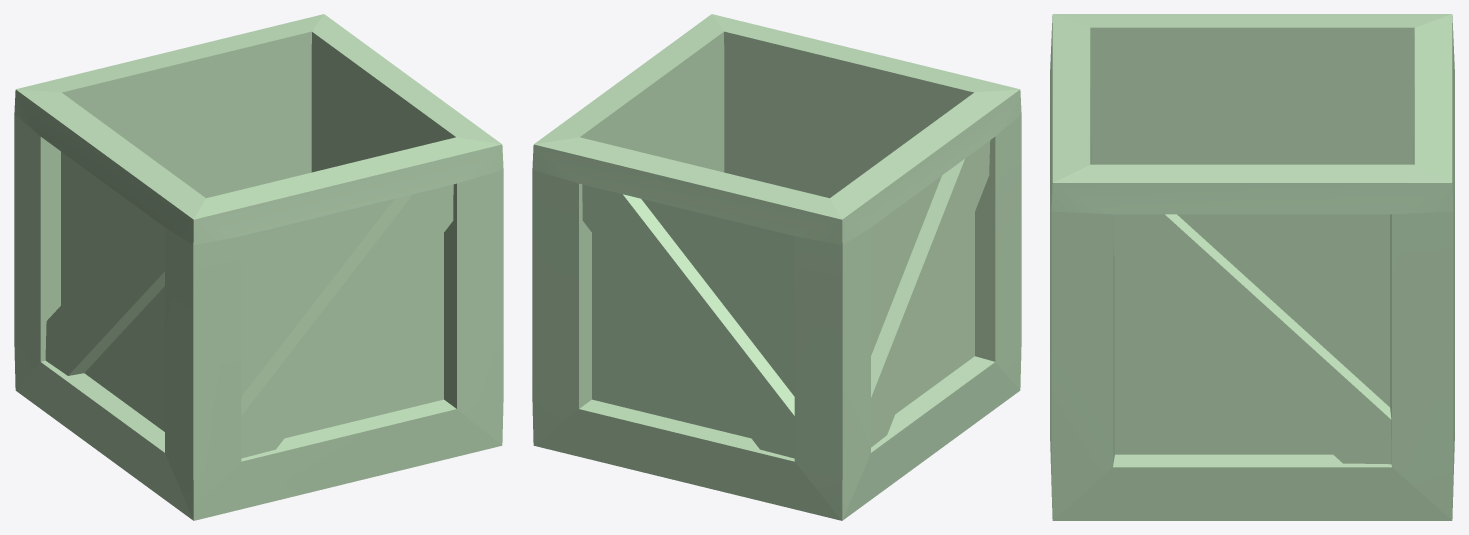
File: test lowuntitled.fbx
The picture shows the model from 3 angles, left to right: view 1: azimuth 30°, elevation 25°; view 2: azimuth 150°, elevation 25°; view 3: azimuth 270°, elevation 25°; orthographic projection. The views are drawn at different scales.
Visible parts, largest first — view 1: Crate_LP; view 2: Crate_LP; view 3: Crate_LP.
Part boxes in pixels (x1,y1,x2,y2): Crate_LP: (14,14,503,520); Crate_LP: (532,14,1021,520); Crate_LP: (1050,14,1454,520).
Bounding box in the file's own units: 103 × 95.92 × 103.
